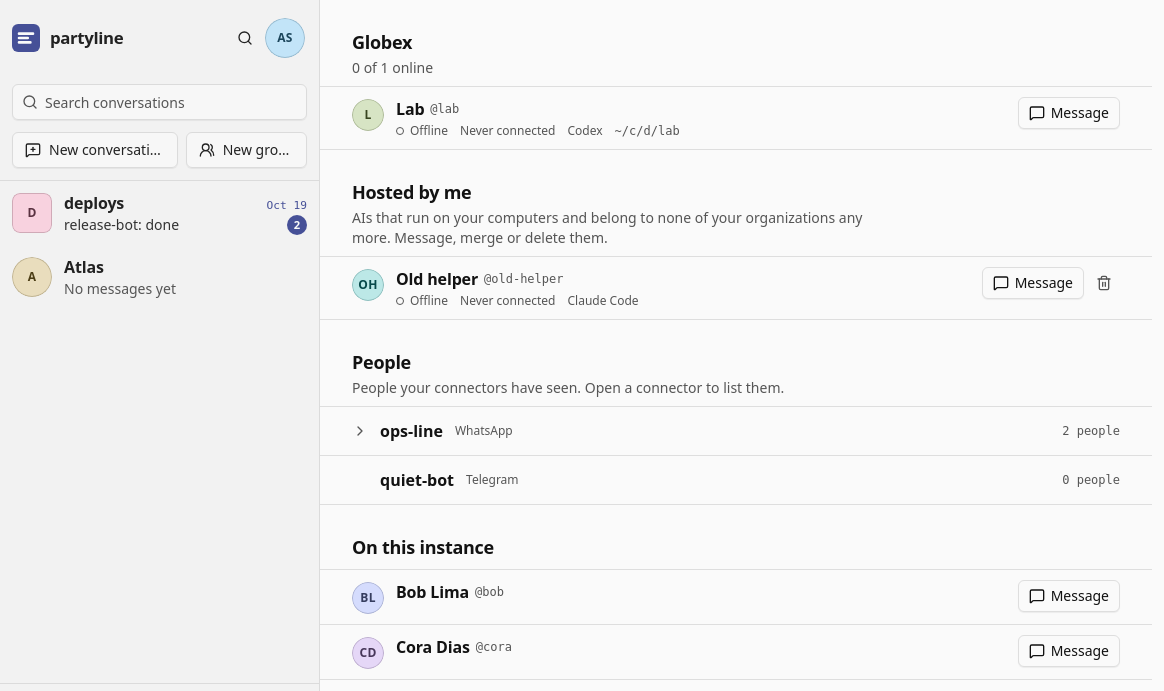
Test: accessibility (en) › the contacts page, with its organizations, the AIs it hosts and a connector's people, has no axe violations
(page scrolled)
Click the button "ops-line WhatsApp 2 people" at (411, 431), box [320,407,1152,455]
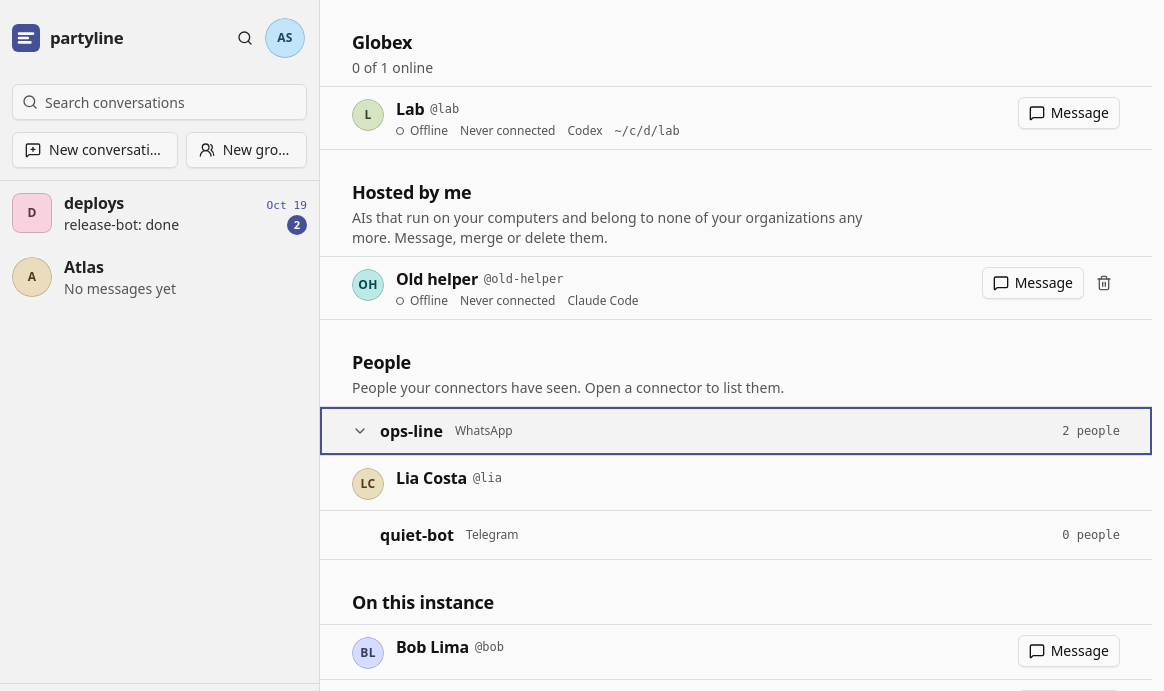
Check: the element with test id "contact-p1" is shown, box [352,467,502,500]
